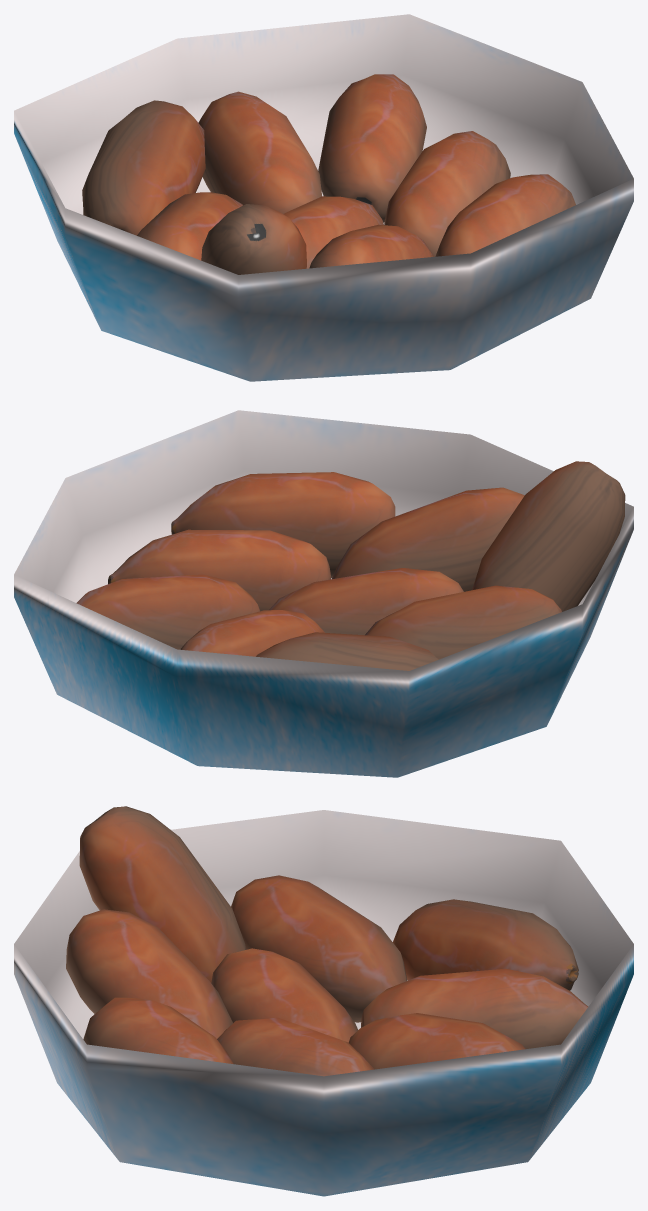
Rendered from dates.fbx.
3 renders of one model, top to bottom at view 1: azimuth 30°, elevation 25°; view 2: azimuth 150°, elevation 25°; view 3: azimuth 270°, elevation 25°, orthographic. The views are drawn at different scales.
Parts seen in each view (by area): view 1: date_plate, dates; view 2: date_plate, dates; view 3: date_plate, dates.
Boxes of the visible parts, x1=… form: date_plate: x1=14, y1=14, x2=633, y2=381; dates: x1=82, y1=74, x2=575, y2=274; date_plate: x1=14, y1=410, x2=633, y2=777; dates: x1=76, y1=461, x2=625, y2=670; date_plate: x1=14, y1=810, x2=633, y2=1196; dates: x1=66, y1=806, x2=588, y2=1076.
Size of the model in its own units: 4.1 by 1.66 by 4.04.
1 material, 1 textured.
